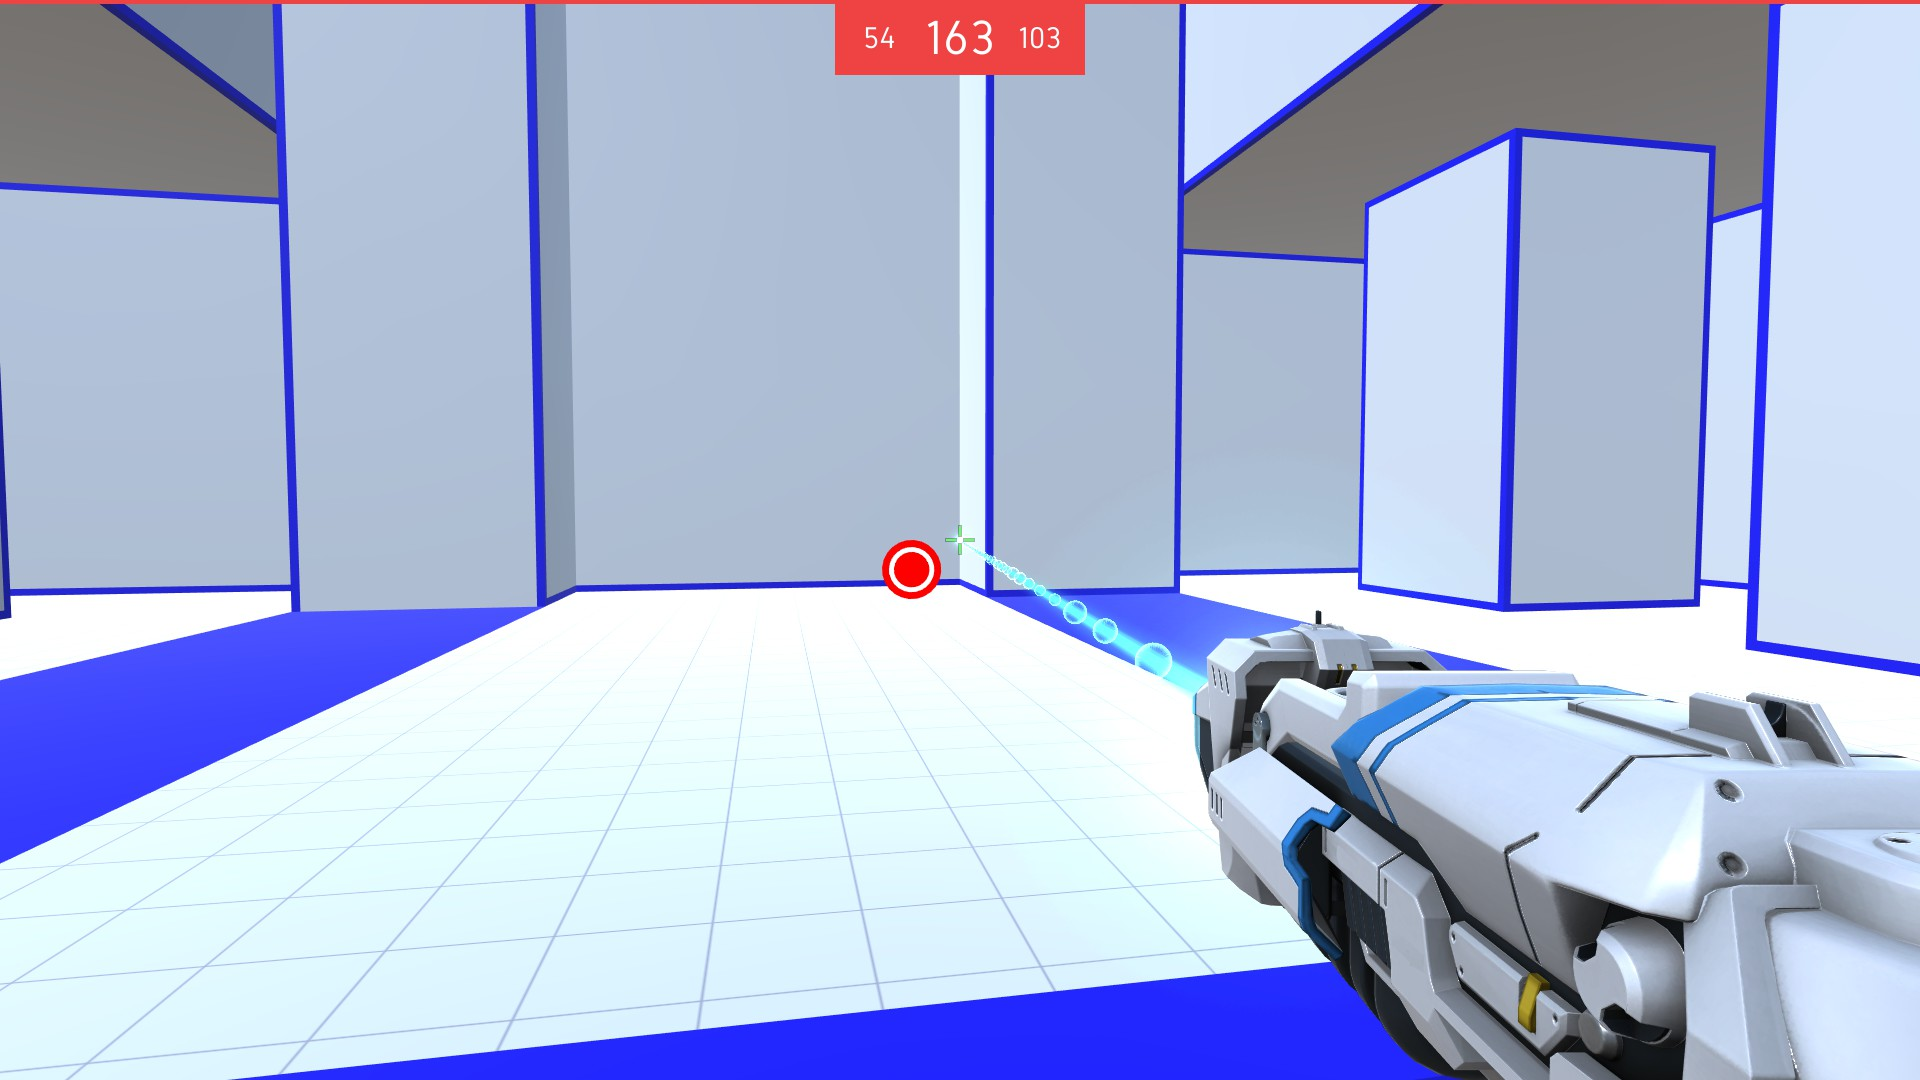target: (877, 538, 948, 601)
